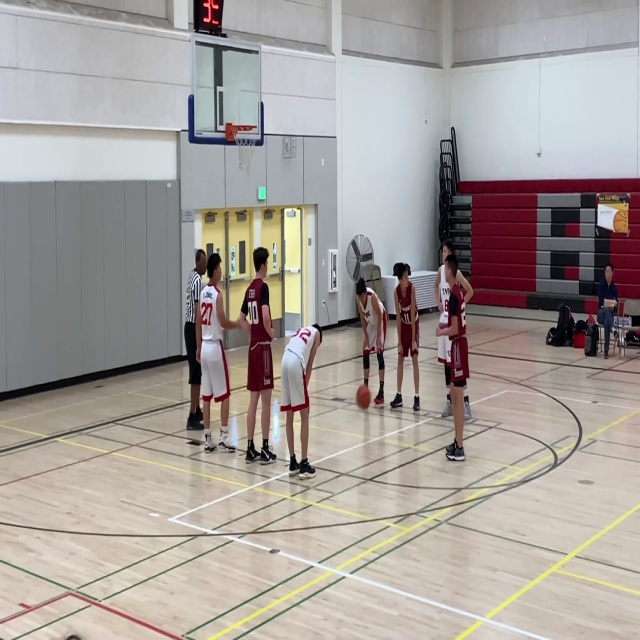Basketball: (355, 384, 370, 409)
